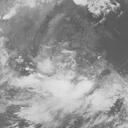cyclone: (41, 57, 96, 113)
